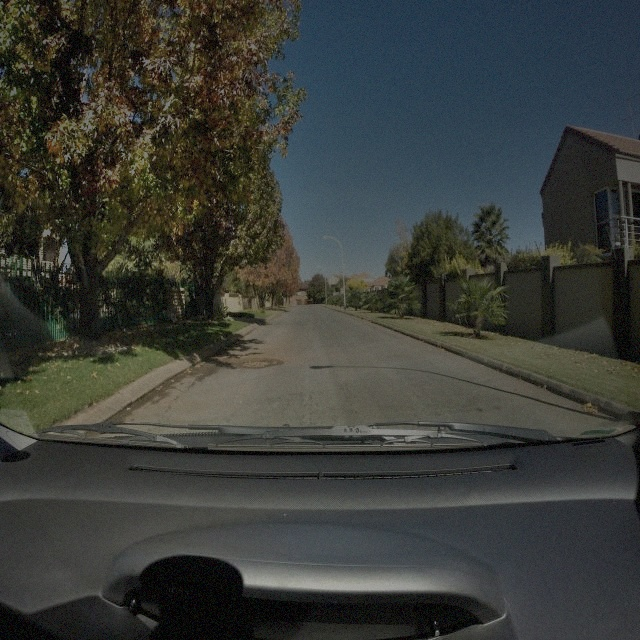pothole: (241, 360, 269, 370)
